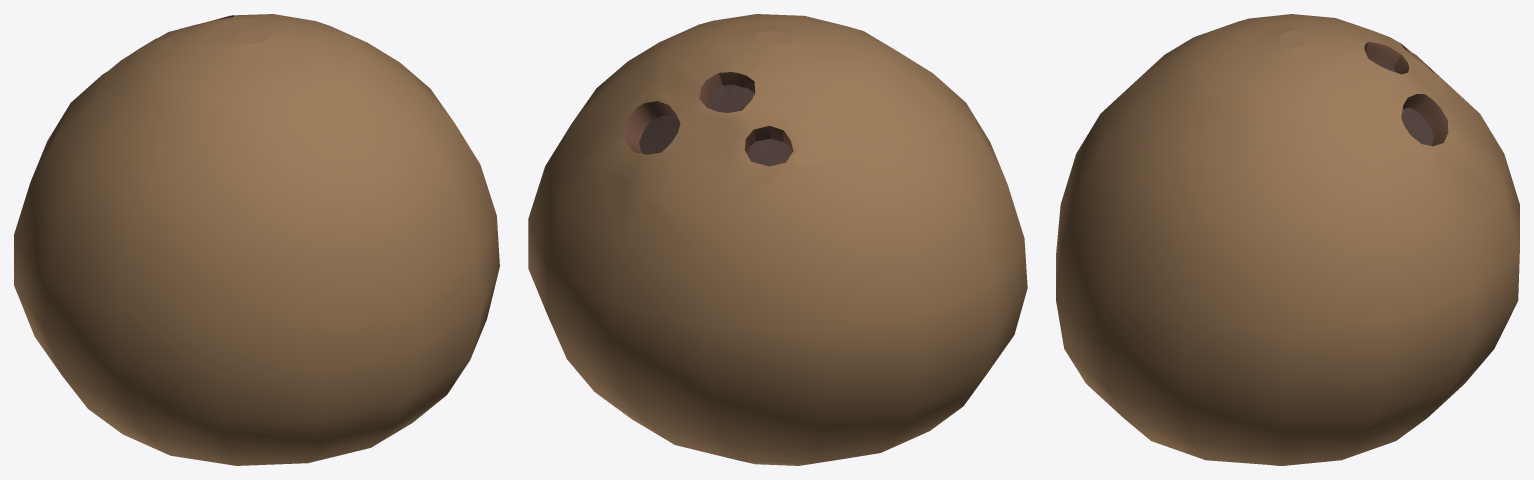
File: atoll_sm_coconut.fbx
3 renders of one model, left to right at view 1: azimuth 30°, elevation 25°; view 2: azimuth 150°, elevation 25°; view 3: azimuth 270°, elevation 25°, orthographic. The views are drawn at different scales.
Parts seen in each view (by area): view 1: Coconut; view 2: Coconut; view 3: Coconut.
Part boxes in pixels (<box>): Coconut: <box>14,14,499,465</box>; Coconut: <box>528,14,1027,465</box>; Coconut: <box>1056,14,1519,465</box>.
Size of the model in its own units: 17.78 by 15.7 by 16.63.
